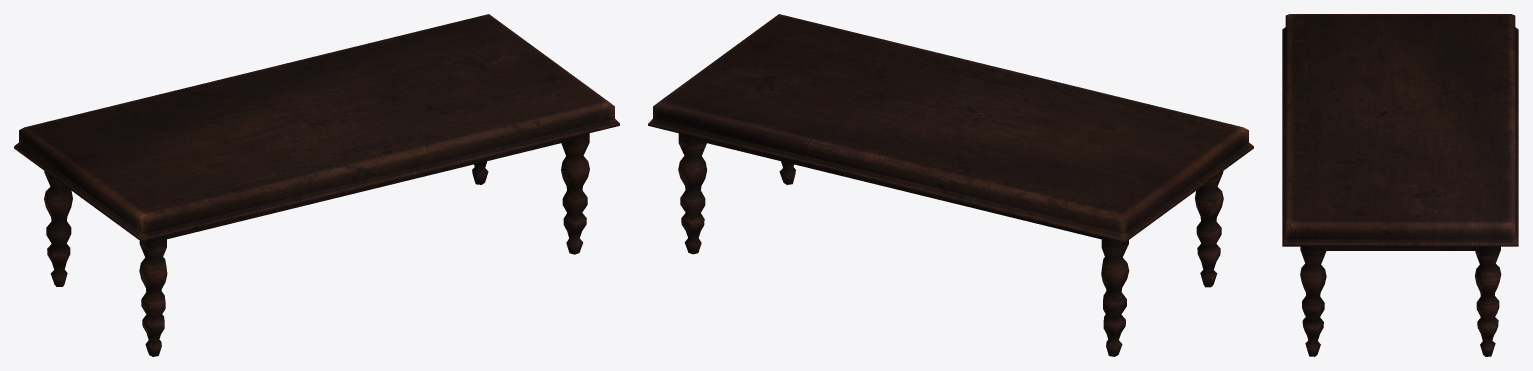
The model's file is table_nice02.dae.
The picture shows the model from 3 angles, left to right: view 1: azimuth 30°, elevation 25°; view 2: azimuth 150°, elevation 25°; view 3: azimuth 270°, elevation 25°; orthographic projection. The views are drawn at different scales.
Visible parts, largest first — view 1: table_nice02_mesh; view 2: table_nice02_mesh; view 3: table_nice02_mesh.
Boxes of the visible parts, x1,y1,x2,y2 form: table_nice02_mesh: (14, 14, 619, 356); table_nice02_mesh: (648, 14, 1253, 356); table_nice02_mesh: (1282, 14, 1518, 356).
Size of the model in its own units: 2.89 by 0.8892 by 1.34.
